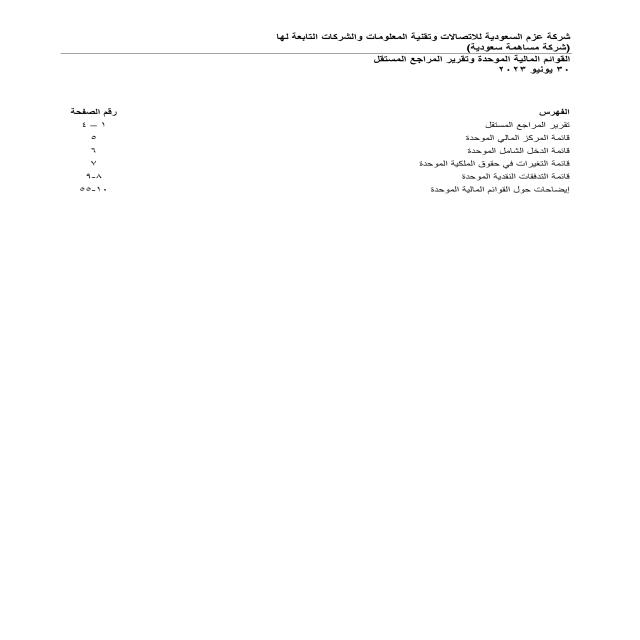other: (47, 90, 582, 208)
